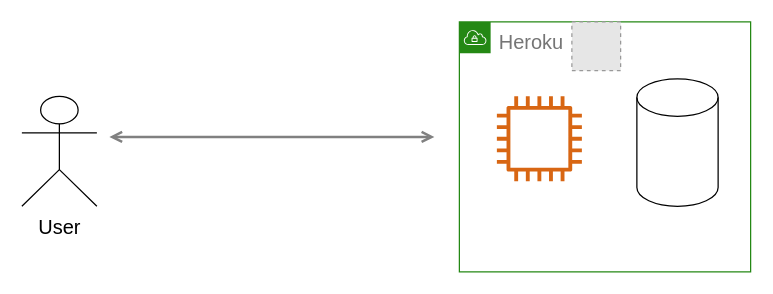
Some shapes in this 773 by 294 pixel diagram are drawn without their labels. Grey dashed boxes stand in for pictures. The centre of each missing label's shape, as x and y in pixels:
API: the point at 538,138
heroku-postgresql: the point at 677,142
